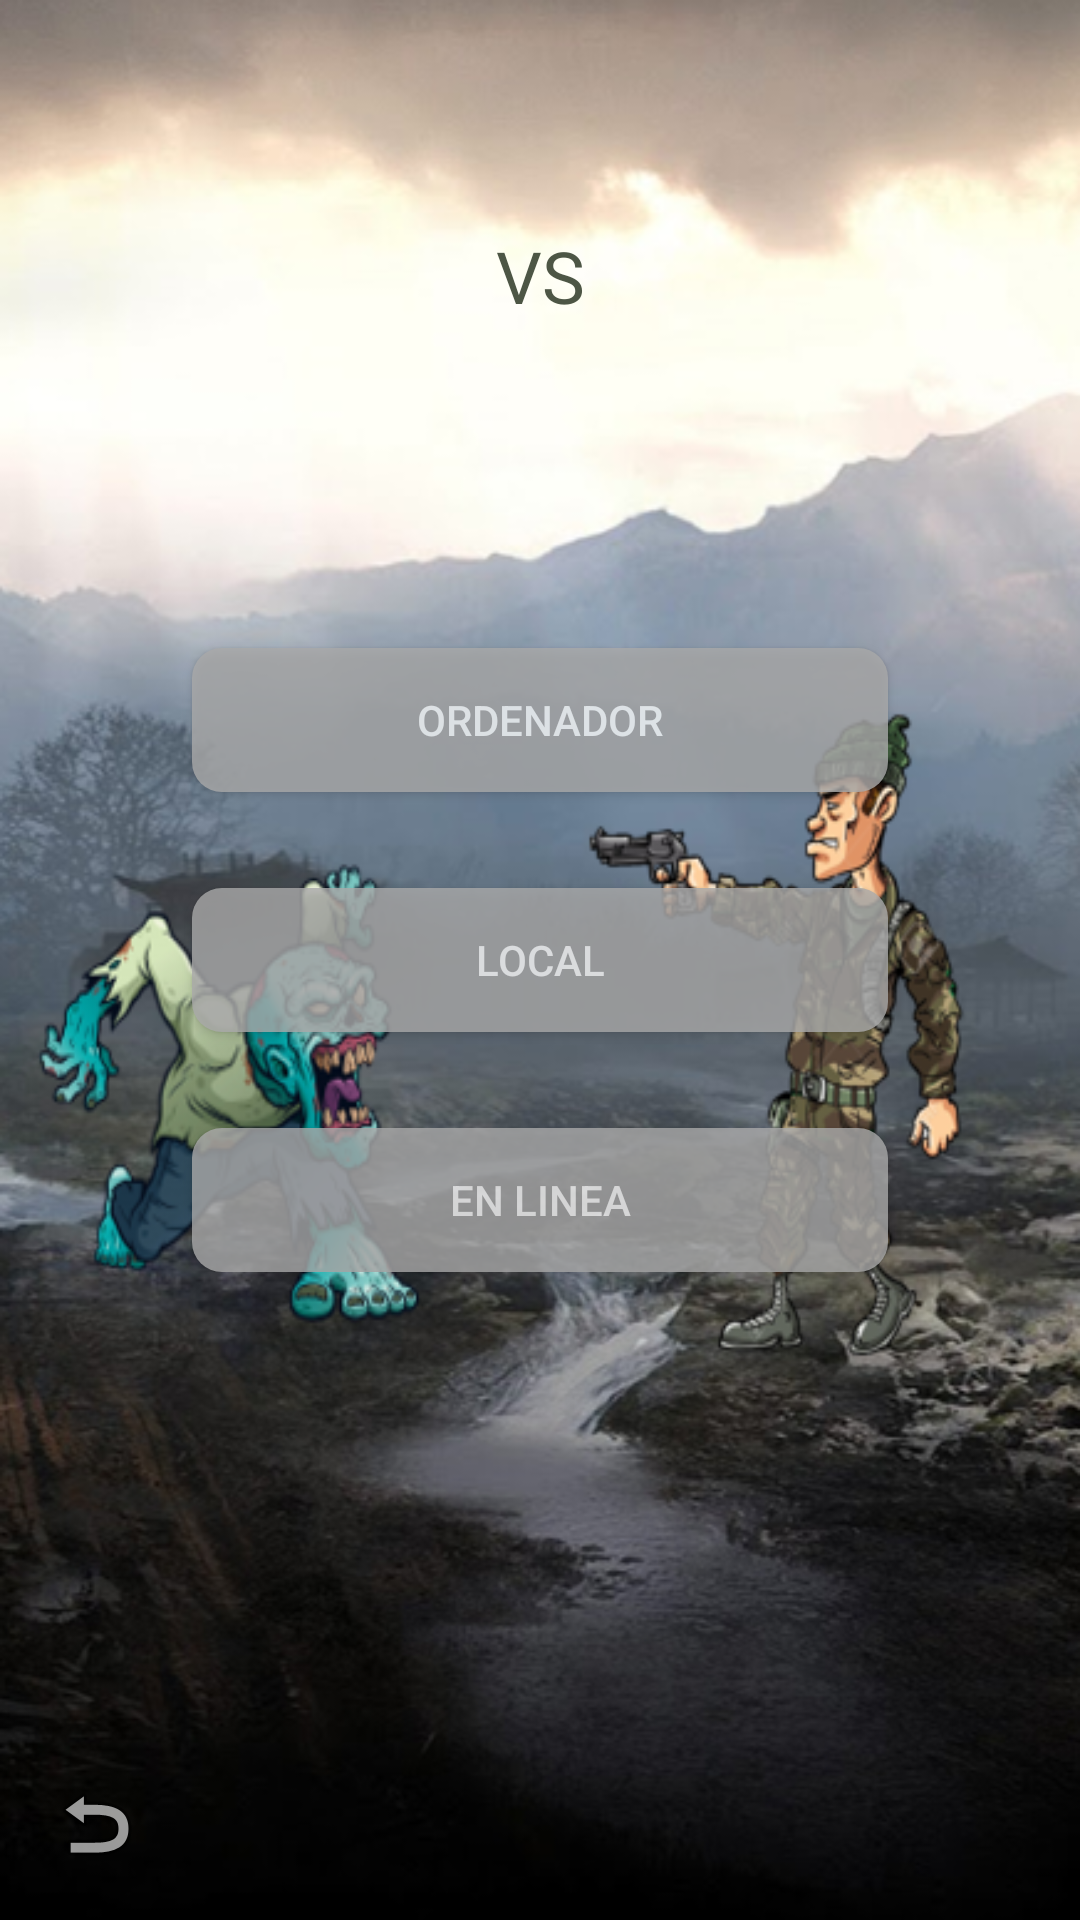

Screen size 1080*1920. Icon name, then its box in pixels as (x1, y1, x2, y2):
revert: (66, 1796, 129, 1853)
